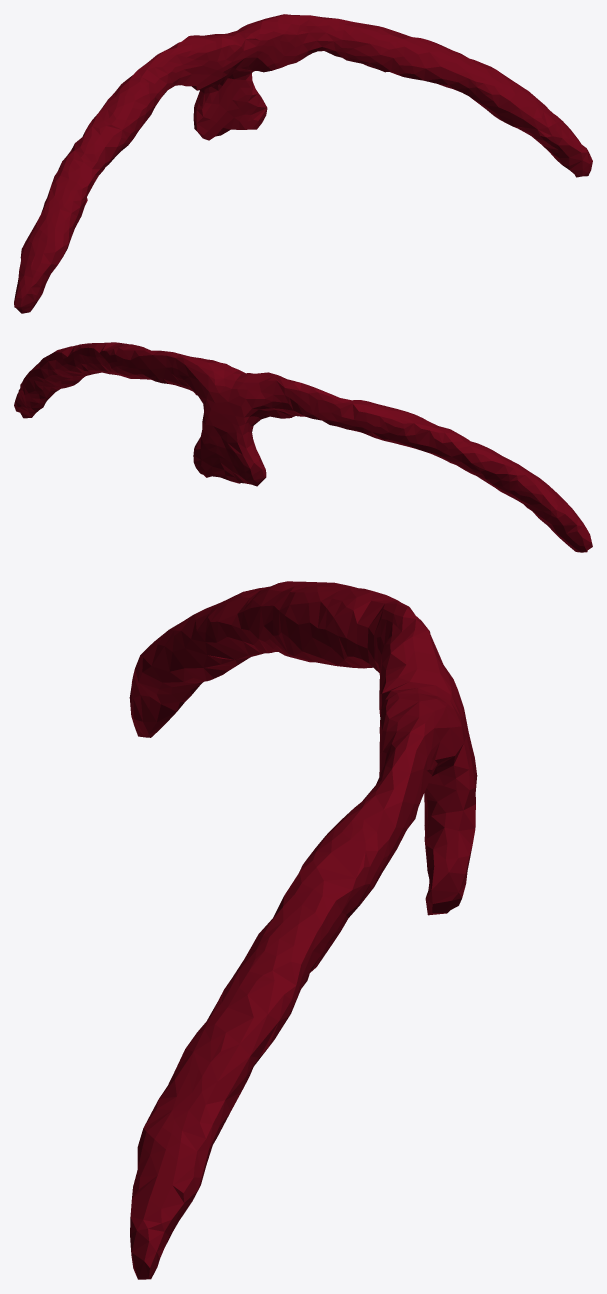
The model's file is 89-1-area 1 of cortex (somatosensory)-('0.4980', '0.0000', '0.0941').obj.
3 views of the same model, one above another, from view 1: azimuth 30°, elevation 25°; view 2: azimuth 150°, elevation 25°; view 3: azimuth 270°, elevation 25° (orthographic). The views are drawn at different scales.
Bounding box in the file's own units: 296 × 82.04 × 77.22.
